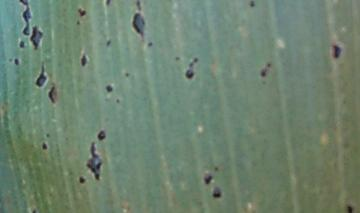tarspot: (85, 140, 103, 182), (129, 1, 146, 41), (18, 1, 33, 36), (34, 60, 48, 90), (183, 56, 200, 80), (29, 24, 42, 51), (257, 61, 273, 77), (330, 42, 342, 60), (46, 84, 56, 104), (201, 173, 214, 186), (96, 129, 108, 141), (211, 185, 222, 198), (76, 6, 87, 18), (77, 50, 84, 68), (39, 141, 49, 151), (77, 174, 86, 185), (17, 40, 27, 49), (104, 84, 114, 92), (13, 56, 20, 67), (345, 203, 352, 213), (43, 131, 51, 139), (104, 38, 111, 46), (114, 96, 121, 103), (7, 56, 13, 64), (247, 1, 254, 7), (146, 40, 152, 47), (75, 18, 81, 25), (174, 55, 181, 61), (31, 208, 38, 213), (124, 71, 129, 78), (103, 1, 108, 7)
